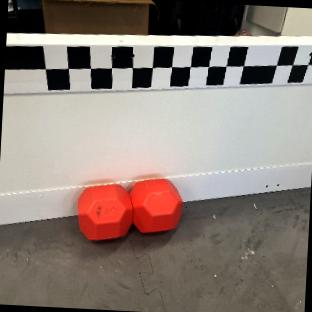V5_RED: (75, 175, 183, 240)
